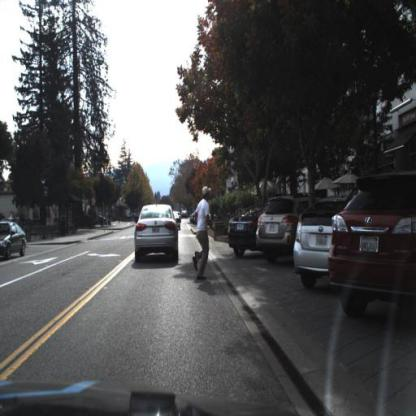car: (326, 170, 415, 320), (292, 192, 336, 292), (126, 200, 185, 273), (295, 208, 333, 291), (256, 196, 294, 269), (224, 204, 261, 259), (2, 219, 28, 263)
pedestrian: (192, 186, 215, 282)
